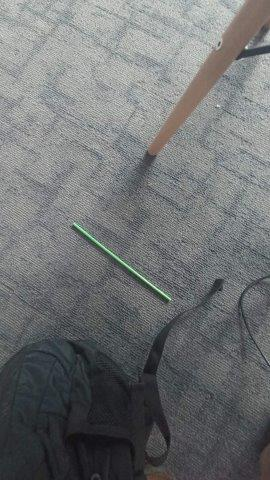sedotan: (72, 224, 170, 302)
